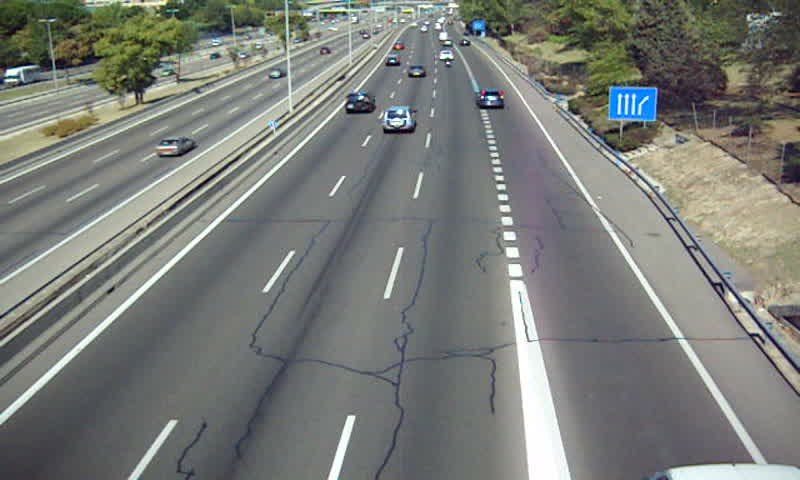car: (380, 106, 418, 133), (345, 92, 376, 114), (475, 88, 506, 108), (407, 63, 427, 79), (384, 53, 402, 68)
